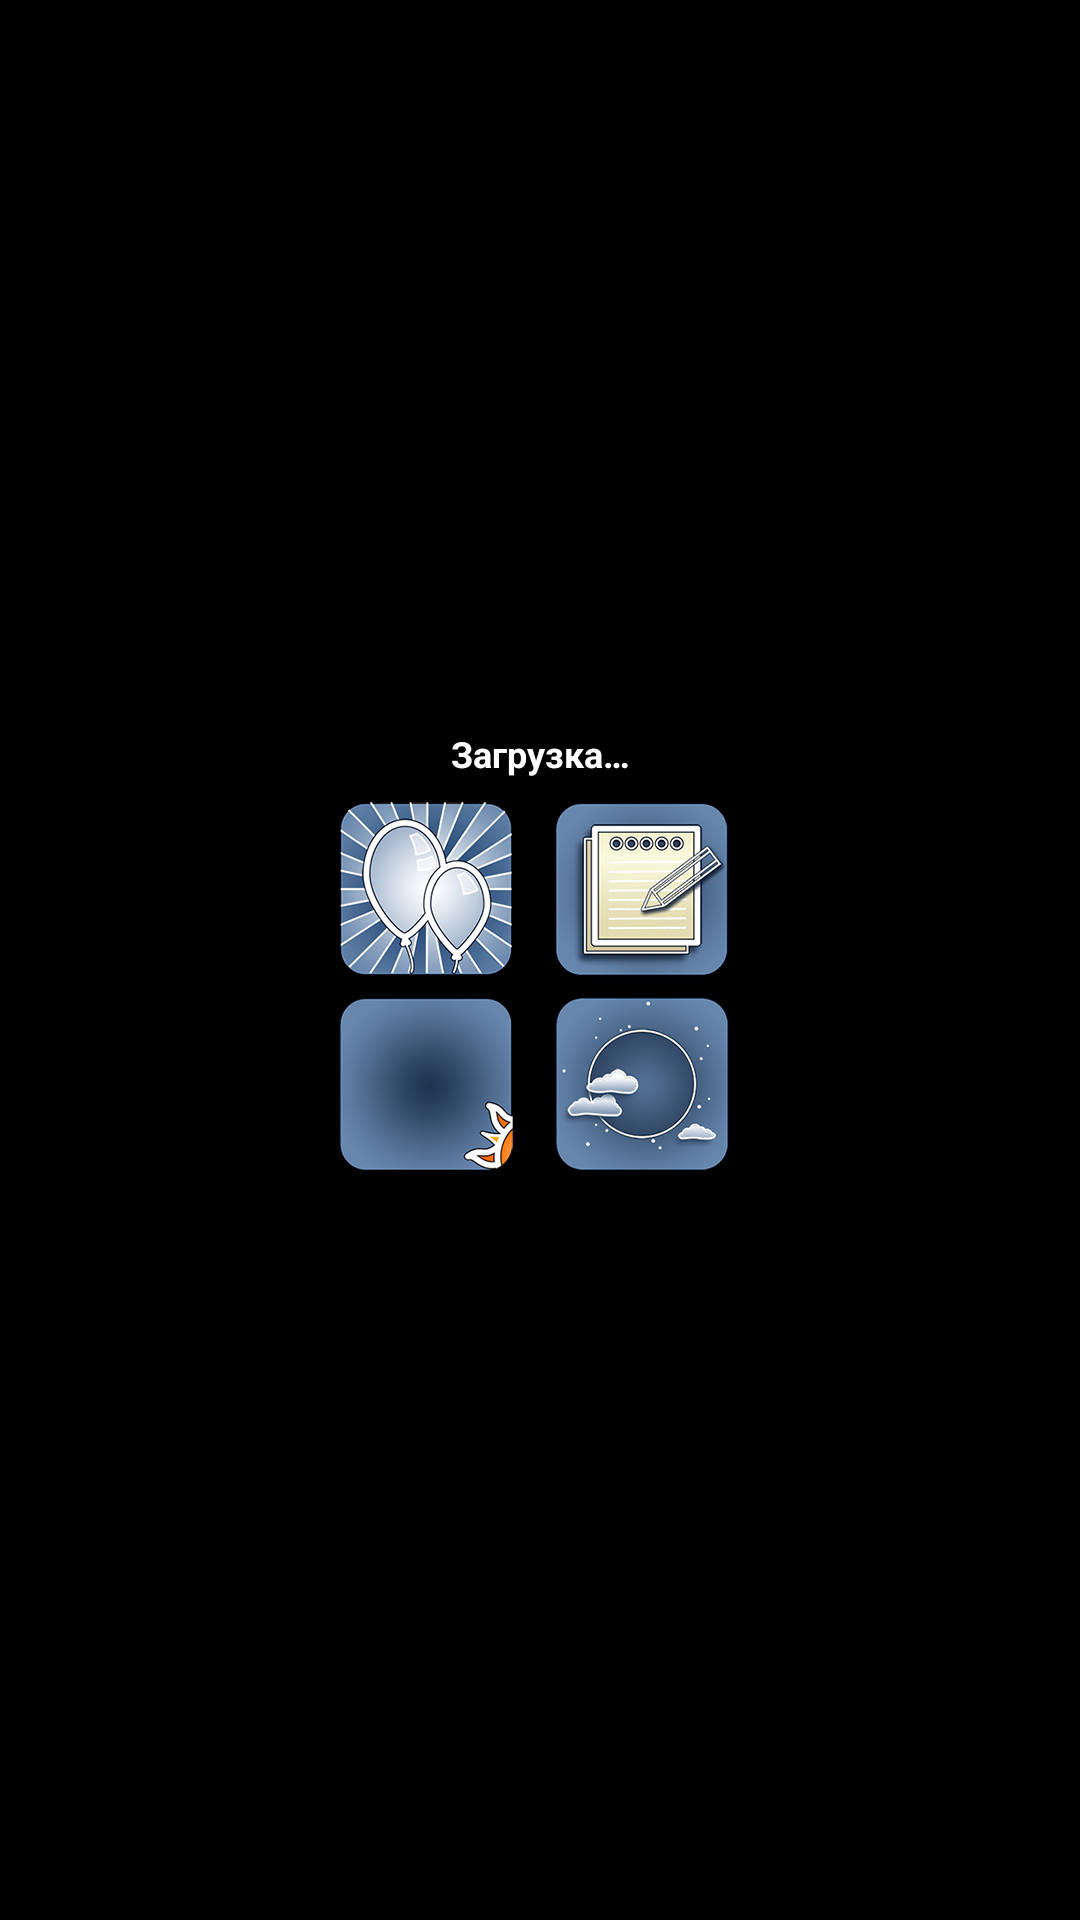

Screen size 1080×1920. Icon name, then its box in pixels as (x1, y1, x2, y2):
holidays state: (340, 802, 512, 975)
moon state: (556, 998, 728, 1170)
notes state: (556, 803, 728, 975)
